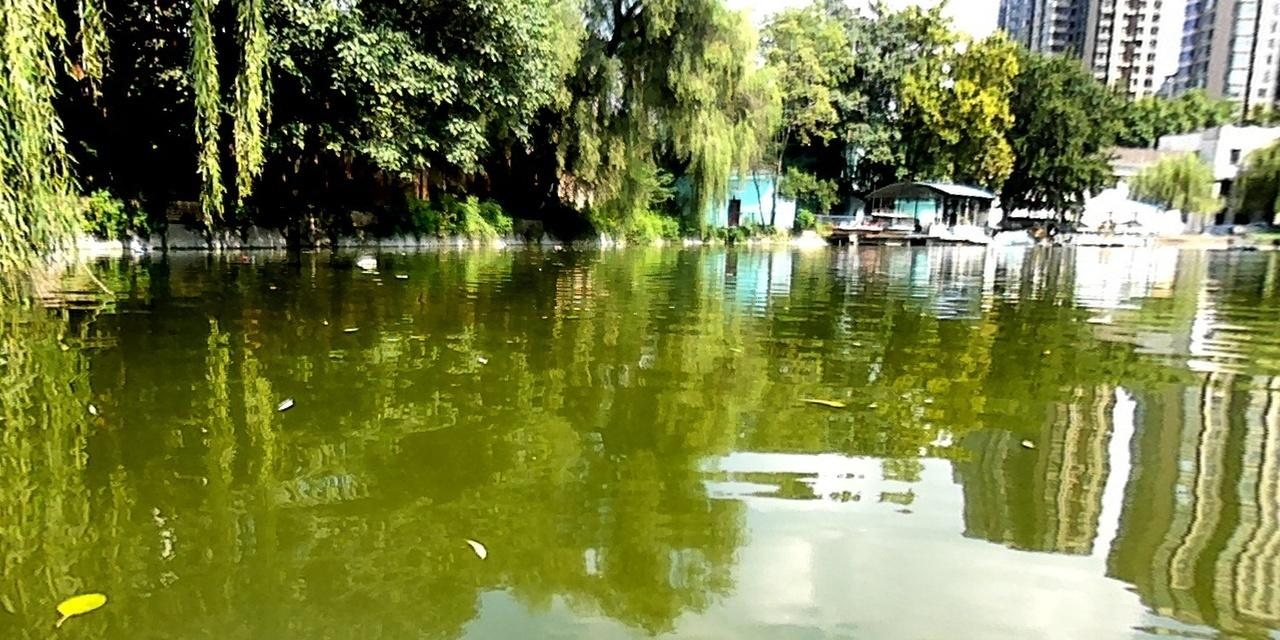bottle: (353, 256, 376, 266)
